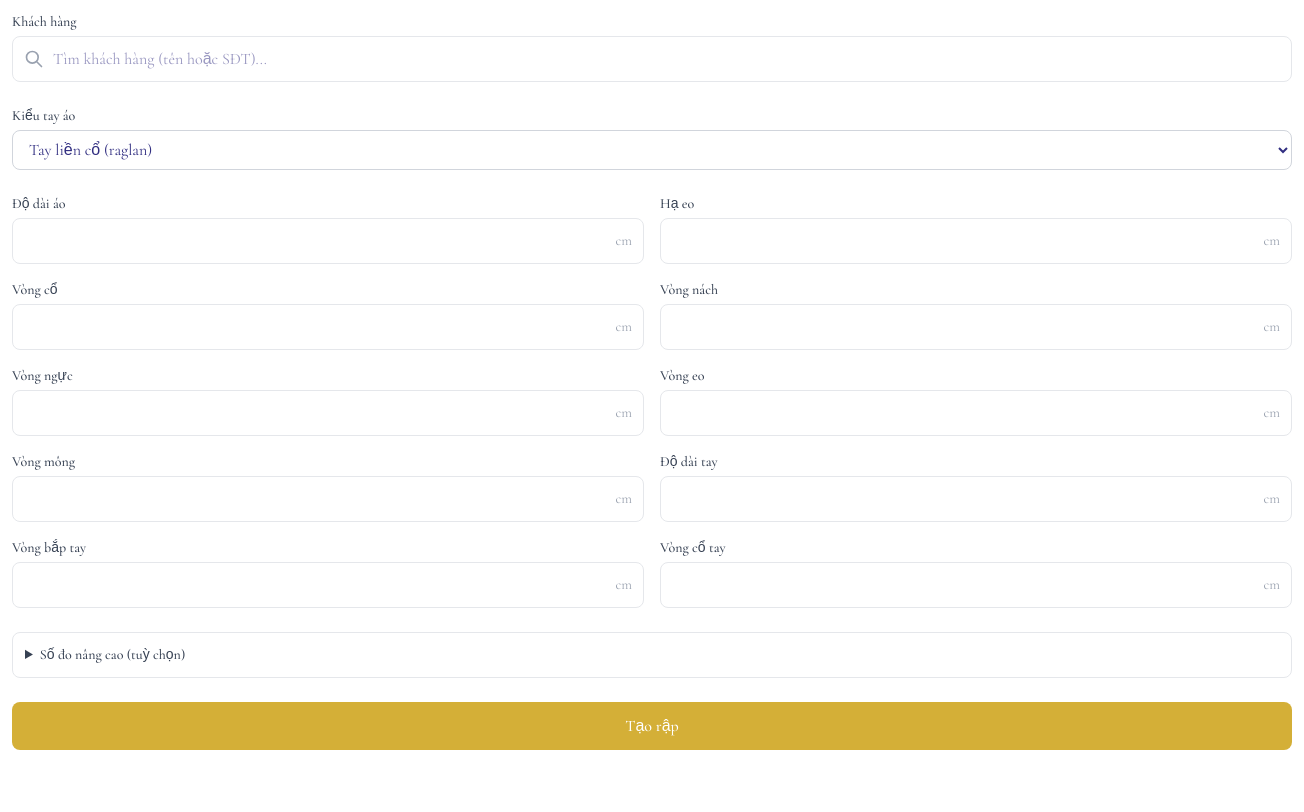
MeasurementForm › shows no results message when search returns empty
In the field with placeholder "Tìm khách hàng (tên hoặc SĐT)...": (652, 59) x1=12 y1=36 x2=1292 y2=82, type "XYZ"
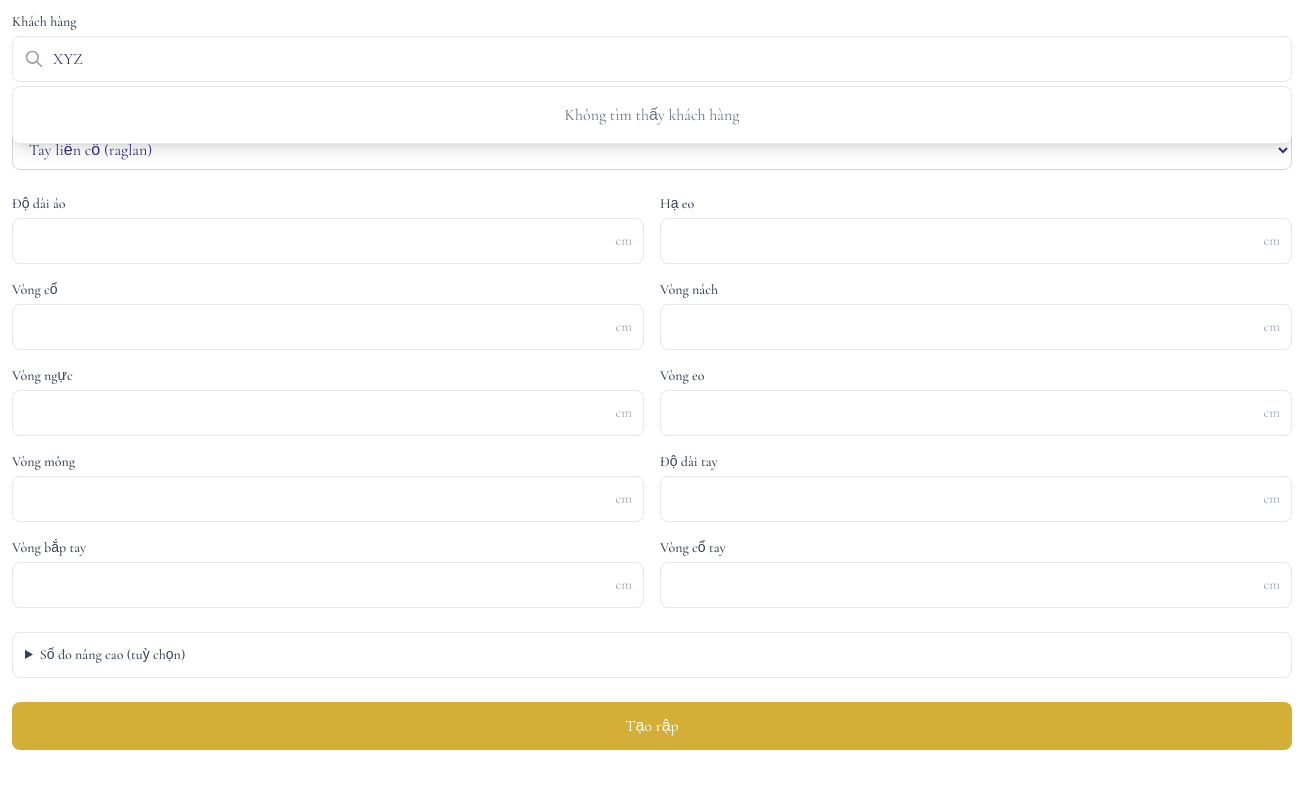
expect the text "Không tìm thấy khách hàng" is shown: met, box x1=12 y1=86 x2=1292 y2=144
